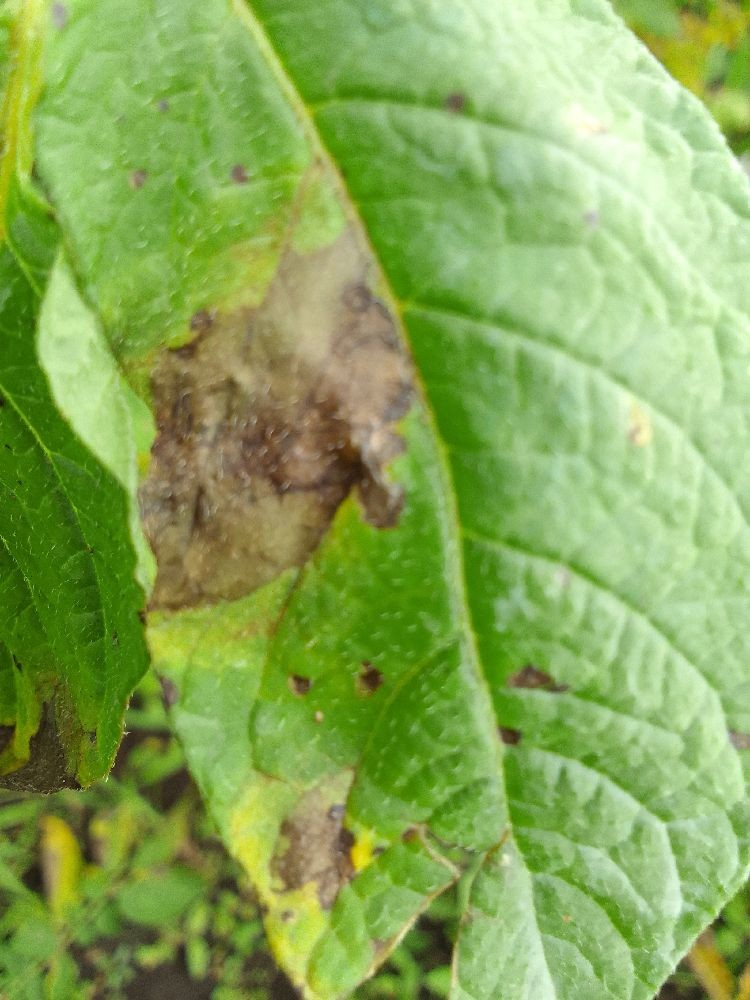late_blight: (121, 200, 439, 637), (255, 777, 373, 922), (645, 904, 750, 1000)
